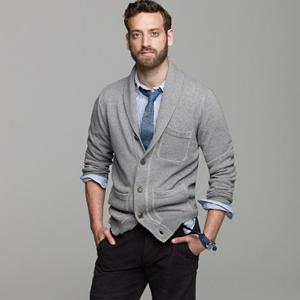C_cardigan sweater: (73, 58, 242, 241)
